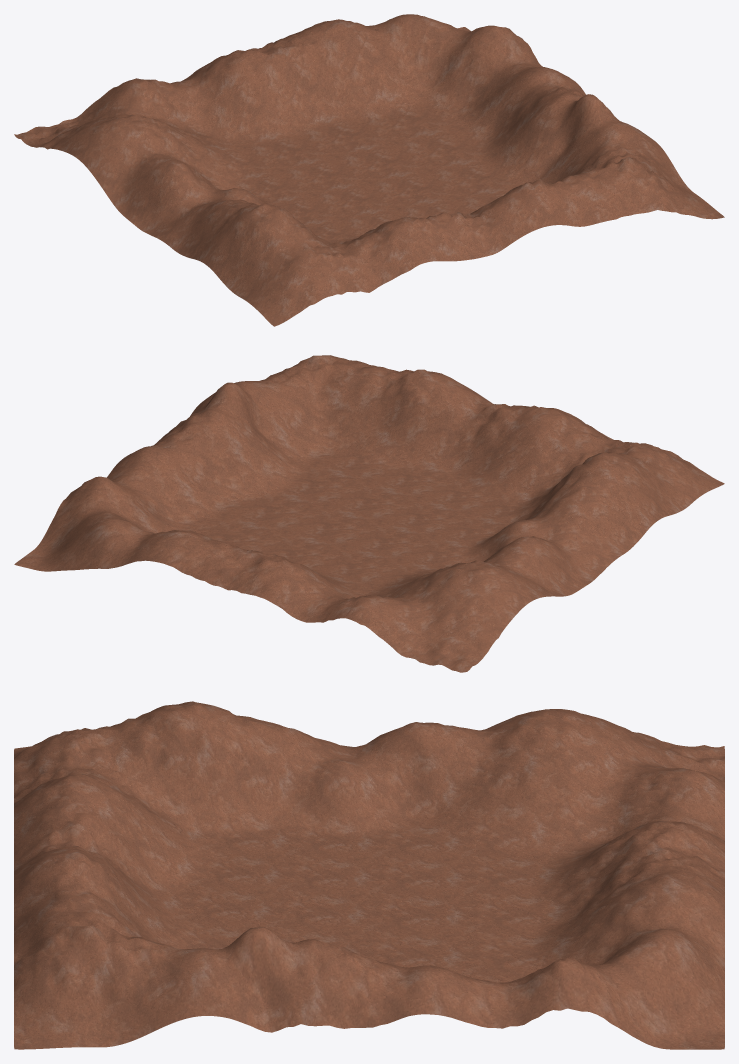
Rendered from terrain.obj.
The picture shows the model from 3 angles, top to bottom: view 1: azimuth 30°, elevation 25°; view 2: azimuth 150°, elevation 25°; view 3: azimuth 270°, elevation 25°; orthographic projection. The views are drawn at different scales.
Visible parts, largest first — view 1: Terrain_Grid; view 2: Terrain_Grid; view 3: Terrain_Grid.
Boxes of the visible parts, x1,y1,x2,y2 form: Terrain_Grid: (14,14,724,326); Terrain_Grid: (14,355,724,672); Terrain_Grid: (14,701,724,1049).
Bounding box in the file's own units: 99.68 × 14.38 × 99.68.
